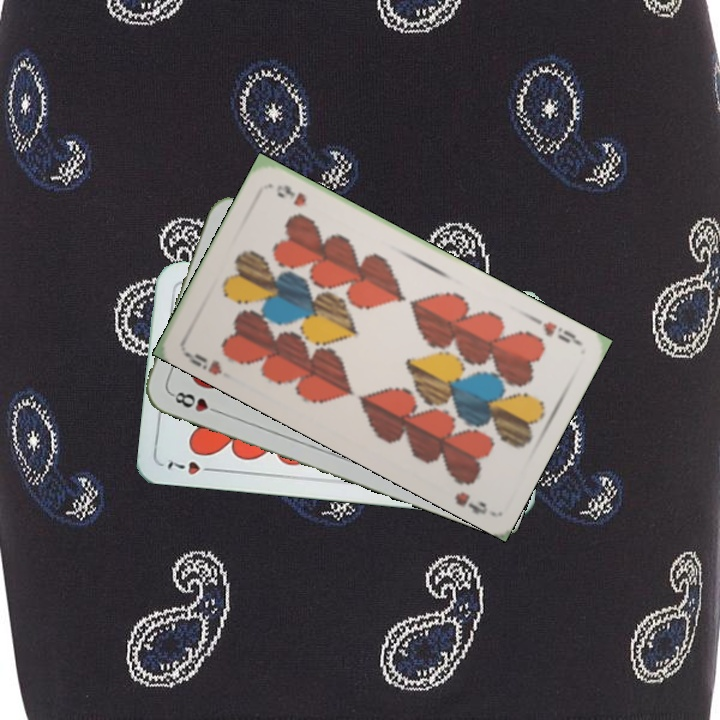H7: (163, 457, 220, 477)
H8: (167, 387, 224, 417)
H9: (180, 347, 225, 378), (539, 317, 582, 347)
